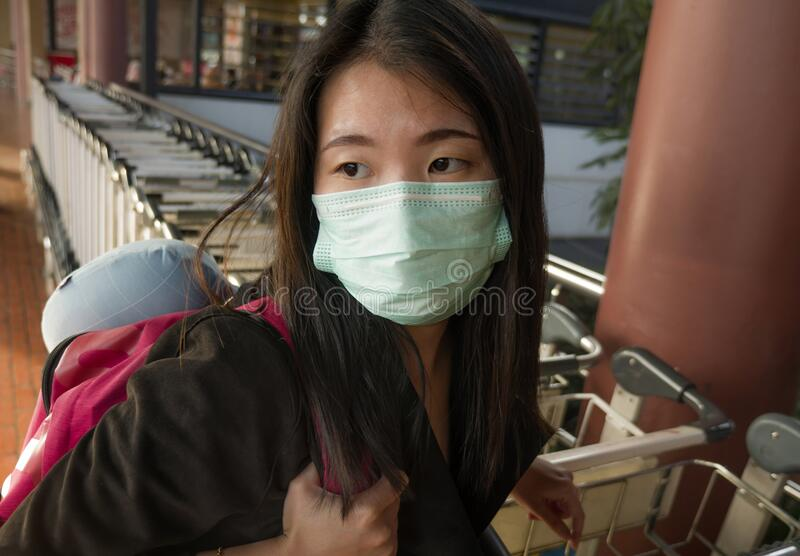surgical: (301, 174, 521, 328)
